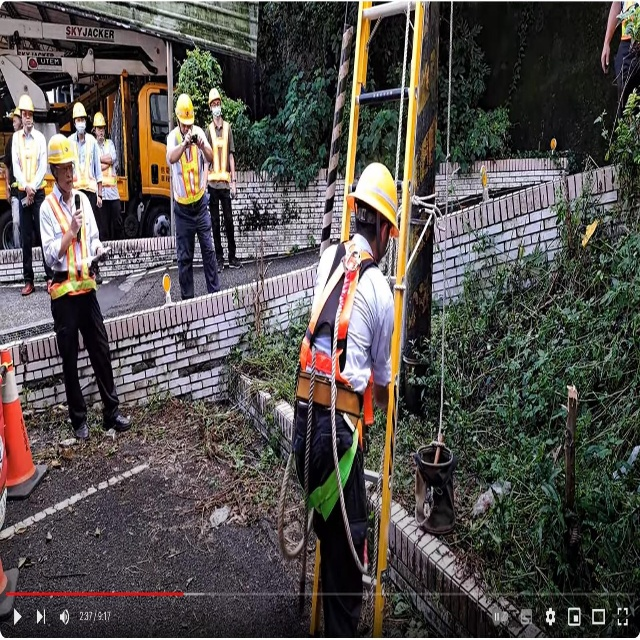Arnes_seguridad: (296, 240, 379, 521)
